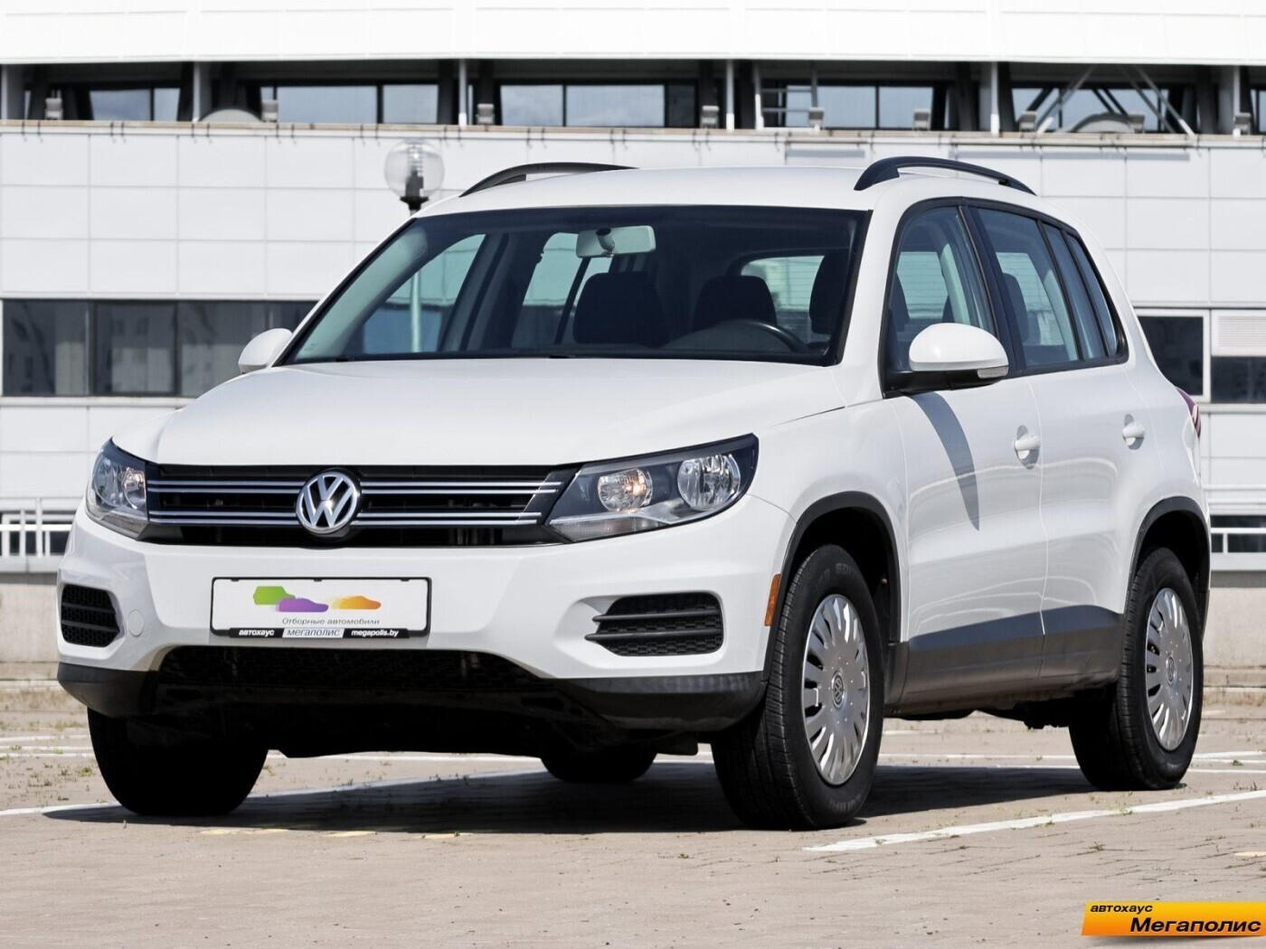Tiguan_2011-2018: (54, 158, 1217, 833)
